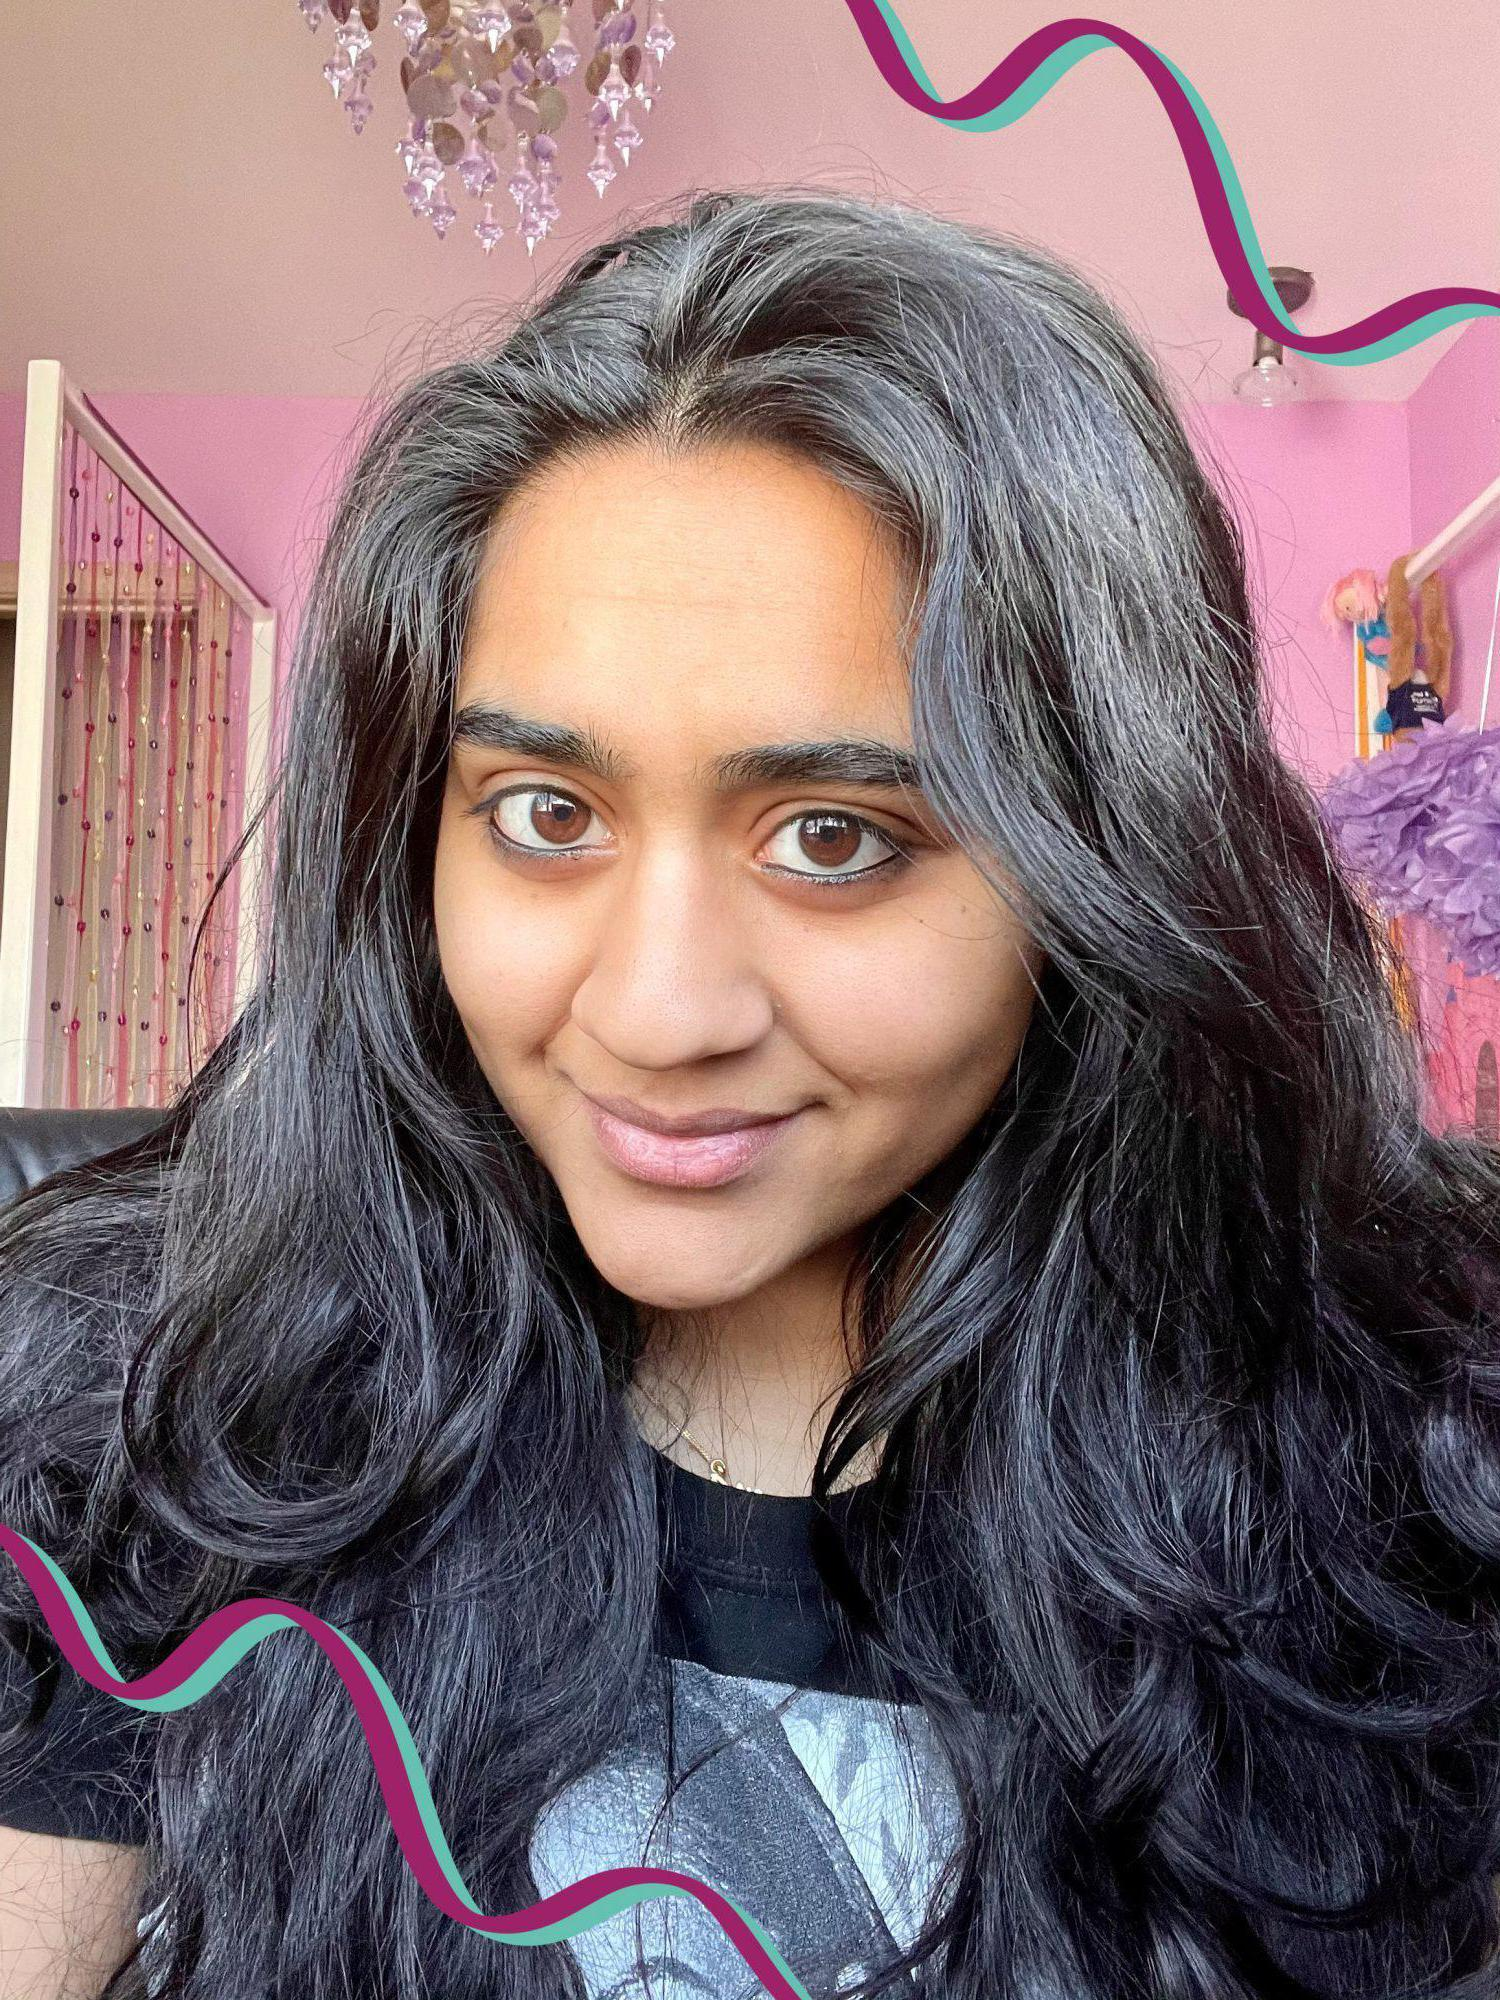Sober: (418, 496, 1013, 1272)
